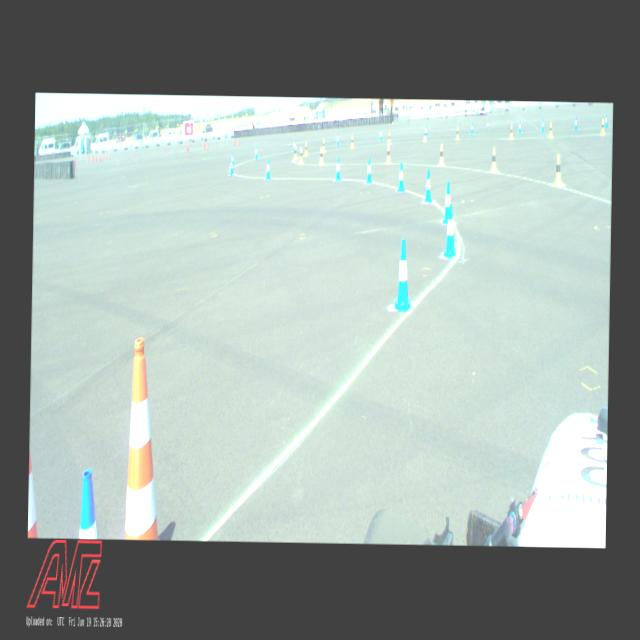blue_cone: (78, 468, 98, 538), (394, 240, 412, 310), (442, 204, 457, 256), (442, 182, 454, 224), (423, 168, 432, 202), (398, 162, 404, 191), (366, 156, 372, 184), (334, 157, 340, 181), (265, 158, 270, 178), (229, 159, 233, 175), (604, 114, 608, 128), (292, 139, 296, 152), (231, 152, 234, 168), (574, 116, 577, 130), (541, 118, 544, 132), (255, 146, 258, 159), (518, 120, 521, 133), (471, 122, 474, 135), (379, 129, 382, 141), (336, 134, 338, 146), (425, 125, 427, 137)
large_orange_cone: (125, 337, 162, 539)
yellow_cone: (554, 153, 562, 185), (438, 144, 444, 166), (491, 147, 496, 172), (318, 147, 324, 165), (386, 144, 390, 164), (422, 128, 427, 142), (548, 121, 552, 137), (299, 147, 303, 163), (600, 118, 604, 134), (294, 144, 298, 160), (455, 126, 459, 140), (350, 134, 354, 148), (509, 125, 513, 138), (304, 142, 308, 154), (387, 131, 390, 144), (322, 138, 324, 152)
